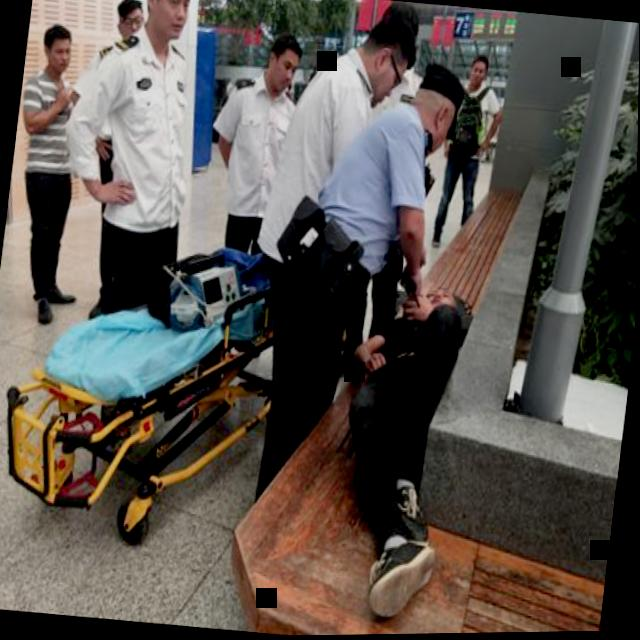Fall-Detected: (311, 257, 491, 626)
